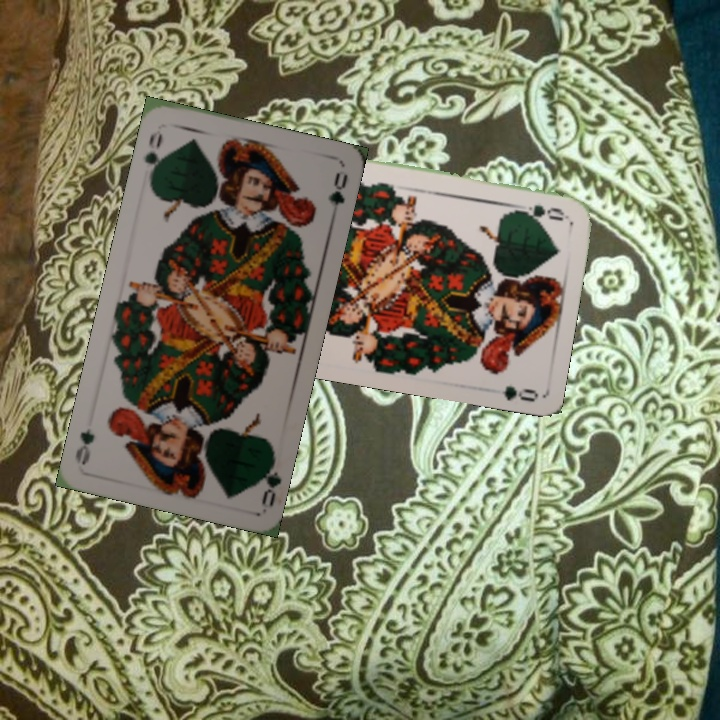GO: (253, 449, 283, 509), (140, 126, 168, 183), (509, 200, 567, 223)
